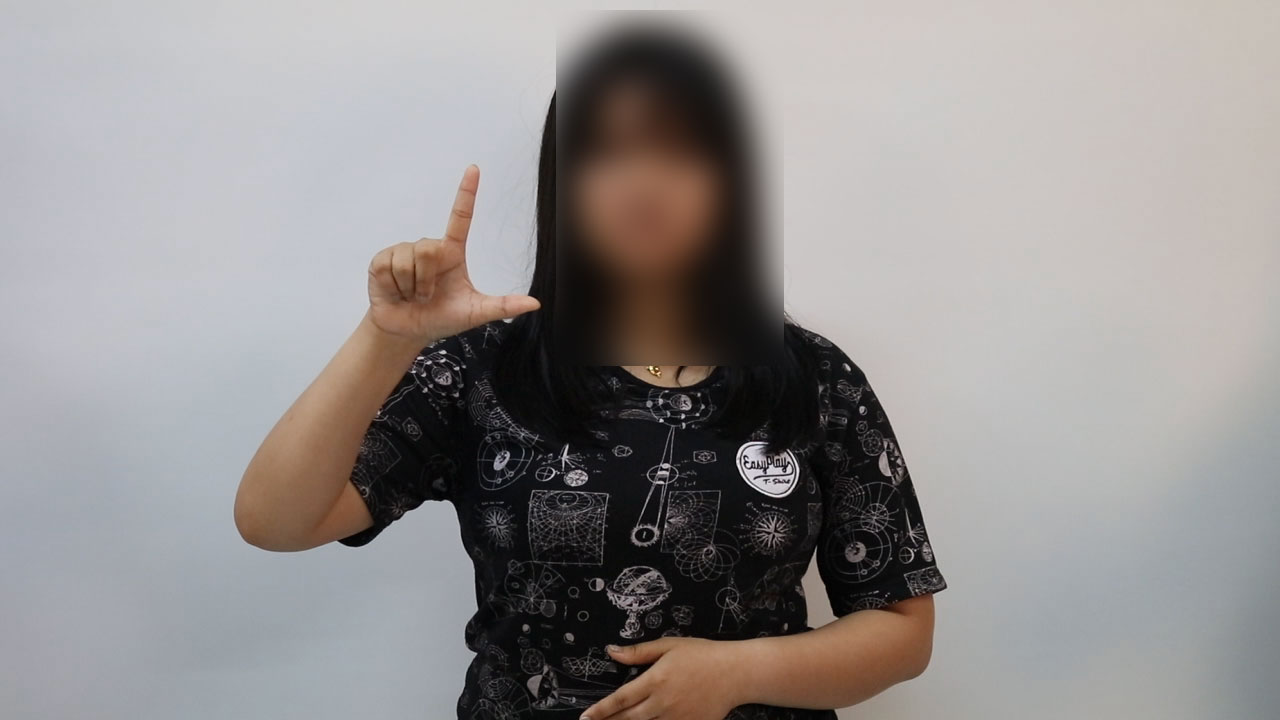lor: (355, 153, 555, 361)
